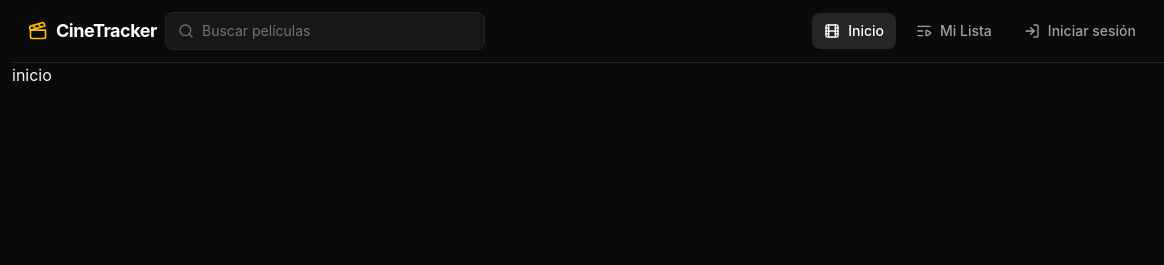
Scenario: Navbar suggestions › opens the movie detail and remembers it when a suggestion is clicked
This screenshot has width=1164, height=265.
Type "matrix" into the dropdown labelled "Buscar películas" at (337, 31), box [202, 21, 472, 41]
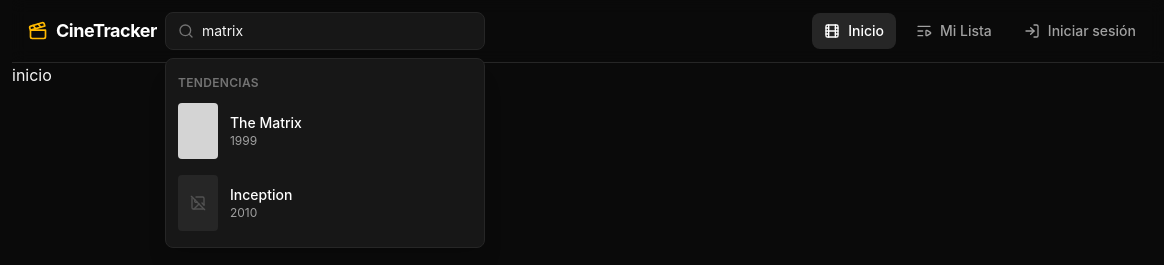
Click the option "The Matrix 1999" at (240, 131), box [178, 103, 302, 159]
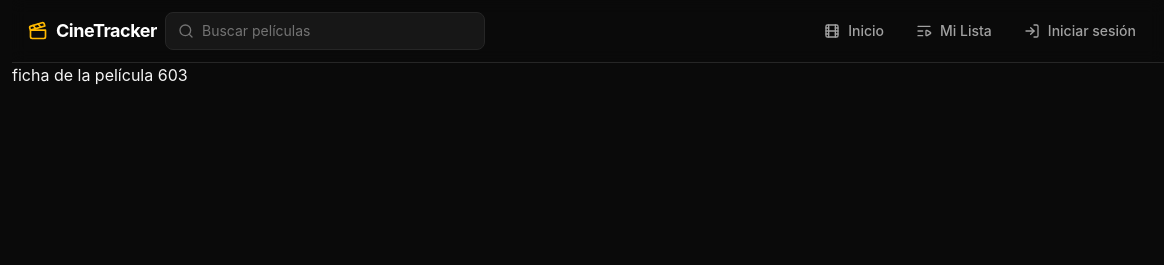
Result: the text "ficha de la película 603" is shown at [12, 65, 188, 85]
Result: the list is gone
